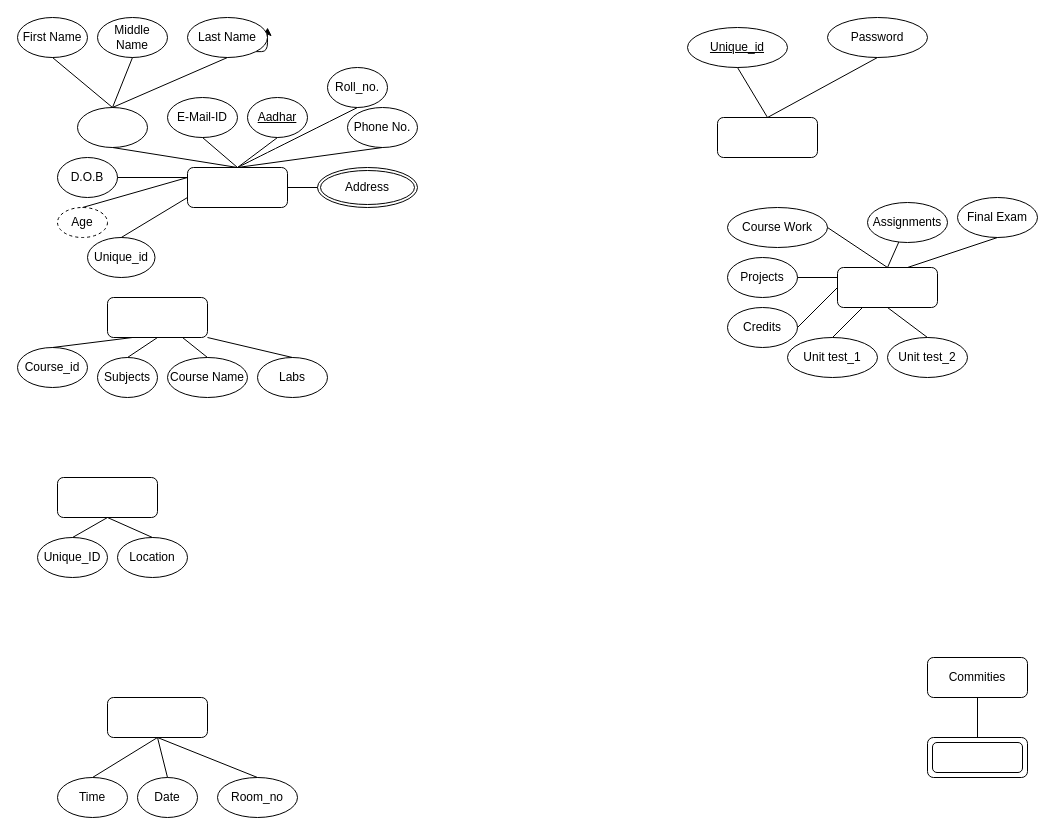
The diagram is 1055 pixels wide and 835 high, and some of its shapes have lost their labels. Here are the shapes that lost their labels. From the top down, the centre of each, then its label:
At (112,127): "Name".
At (767,137): "Administrator".
At (237,187): "Student".
At (887,287): "Examination".
At (157,317): "Courses".
At (107,497): "College_Branch".
At (157,717): "Time Table".
At (977,757): "Events".
